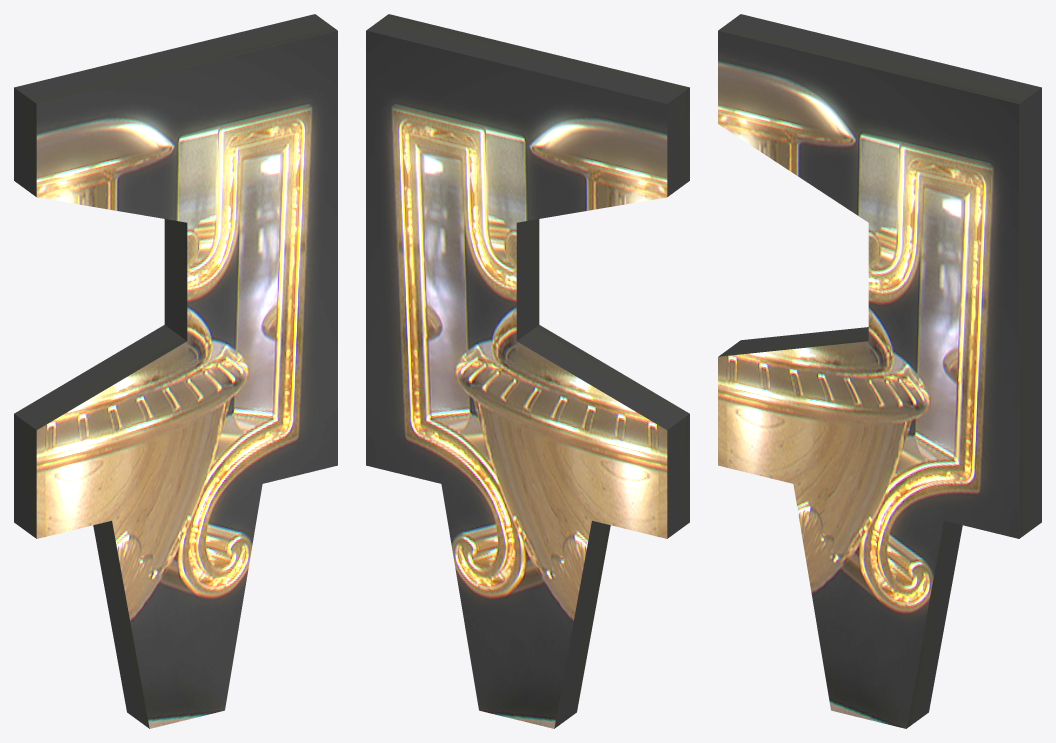
The picture shows the model from 3 angles, left to right: view 1: azimuth 30°, elevation 25°; view 2: azimuth 150°, elevation 25°; view 3: azimuth 330°, elevation 25°; orthographic projection.
Parts seen in each view (by area): view 1: PuzzlePiece3; view 2: PuzzlePiece3; view 3: PuzzlePiece3.
Part boxes in pixels (bbox=[...]): PuzzlePiece3: bbox=[14, 14, 337, 728]; PuzzlePiece3: bbox=[366, 14, 689, 728]; PuzzlePiece3: bbox=[718, 14, 1041, 728].
Size of the model in its own units: 0.9815 by 2.03 by 0.1279.
Materials: 1 (1 with a texture image).
